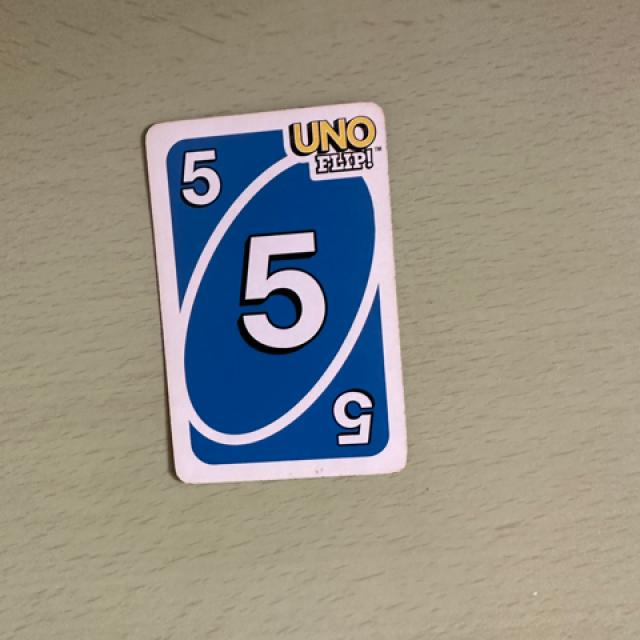lblue-5: (160, 132, 239, 219)
